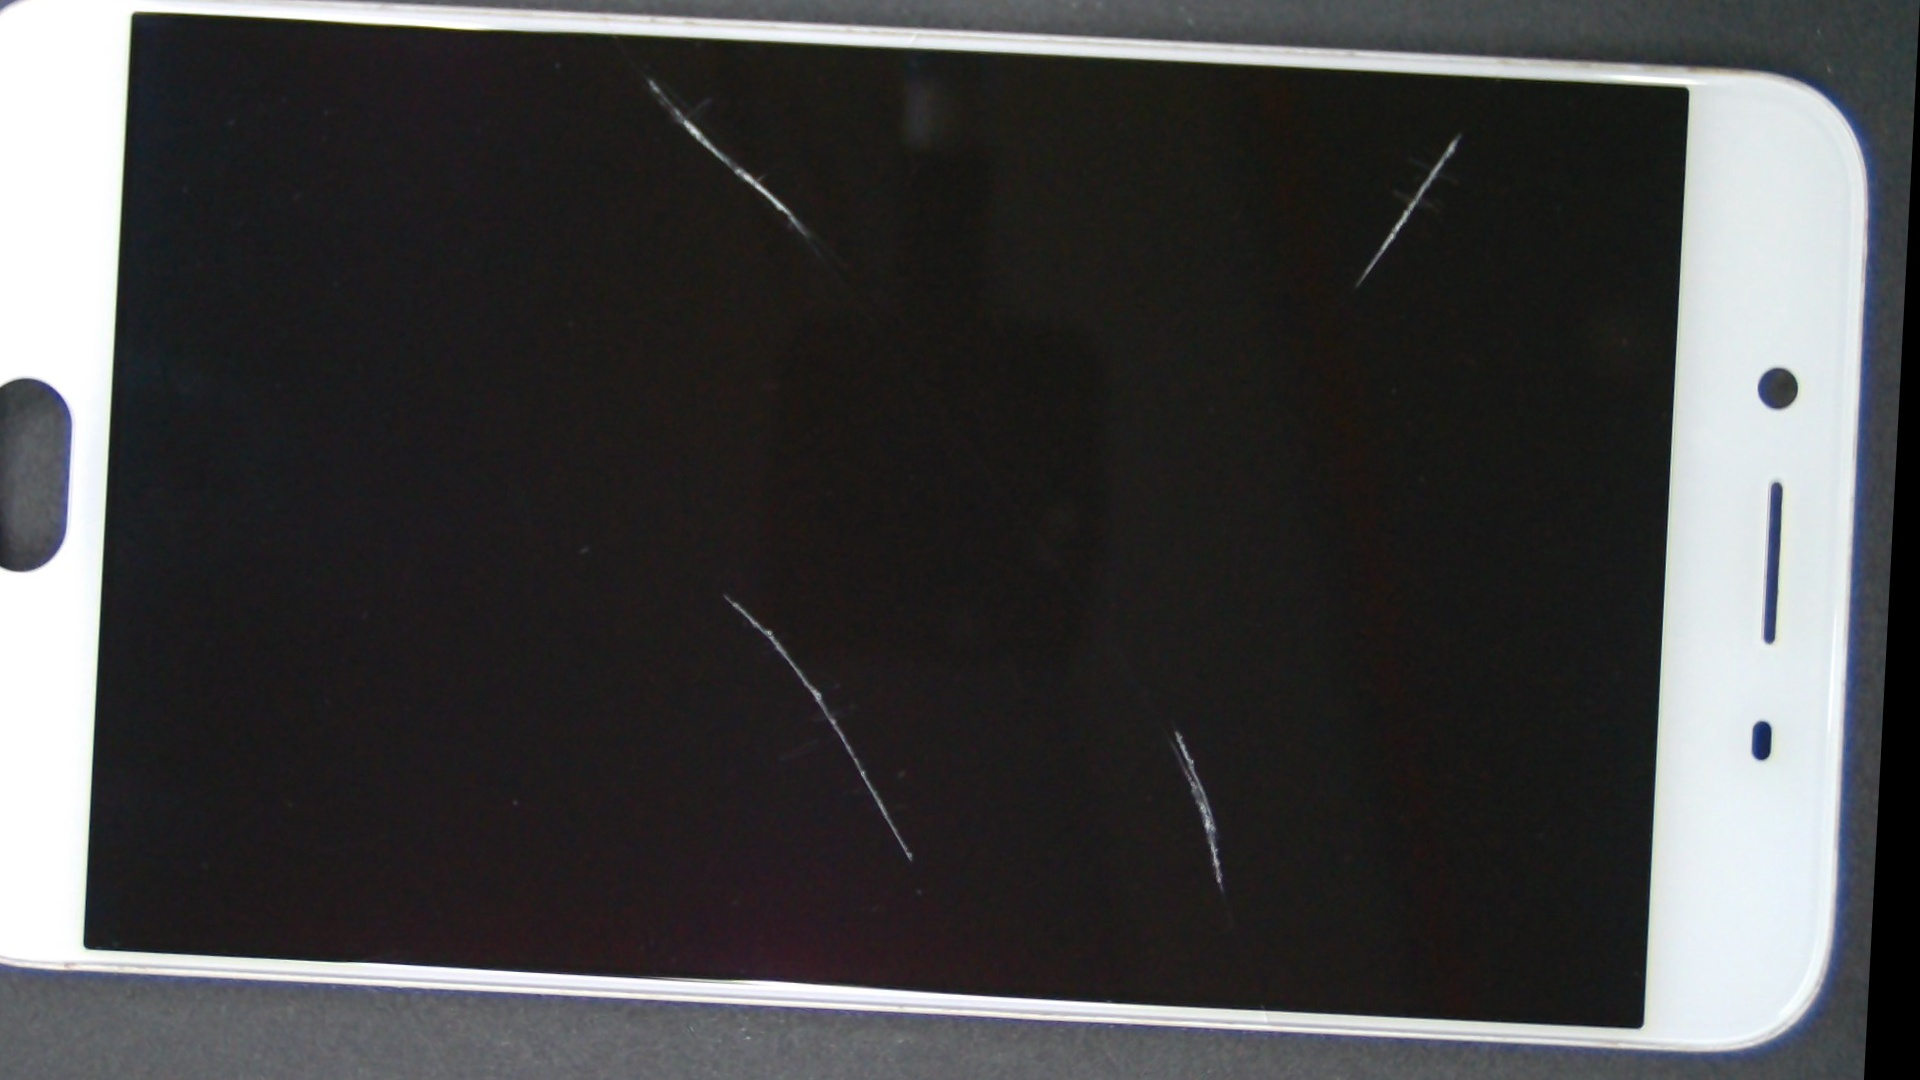oil: (517, 311, 1836, 1080), (298, 244, 1153, 944), (691, 16, 1916, 241), (285, 0, 1010, 167)
